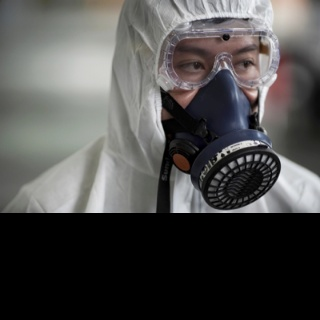with_mask: (160, 30, 276, 170)
